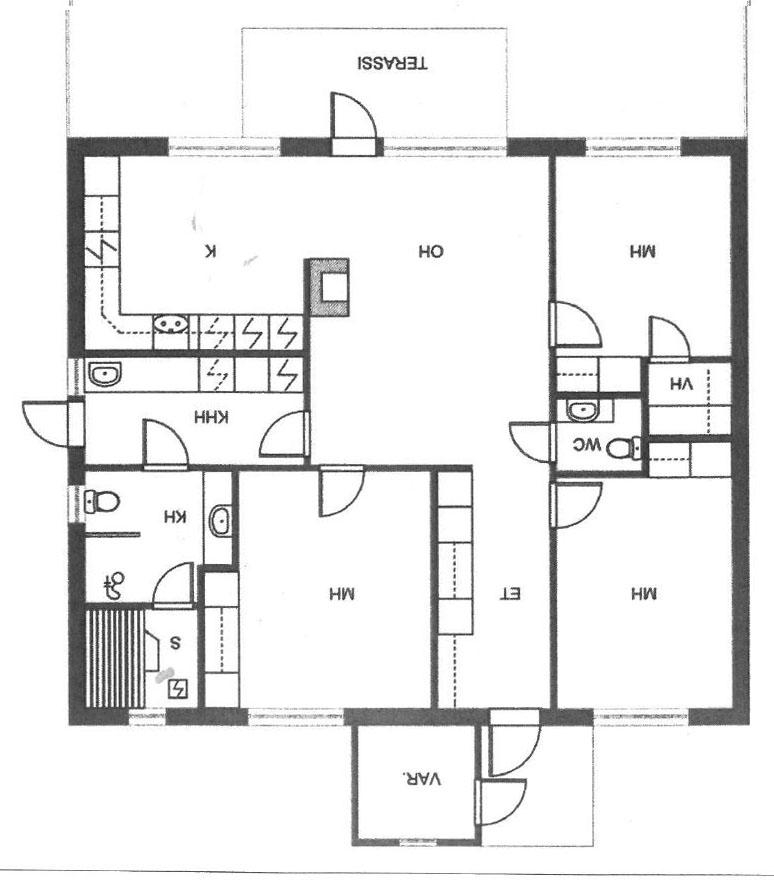bathroom: (85, 468, 233, 603), (556, 397, 643, 474)
door: (484, 706, 542, 778), (17, 397, 92, 452), (312, 457, 370, 521), (327, 89, 380, 159), (254, 408, 318, 461), (470, 776, 533, 829), (140, 416, 194, 476), (546, 299, 605, 352), (545, 479, 605, 529), (506, 417, 562, 468), (644, 313, 695, 366), (147, 561, 196, 610)
perimeter: (65, 135, 752, 851)
window: (375, 131, 514, 162), (154, 132, 288, 163), (571, 131, 691, 164), (584, 701, 700, 732), (240, 703, 349, 731), (58, 475, 88, 529), (118, 703, 173, 731), (61, 349, 87, 401)
